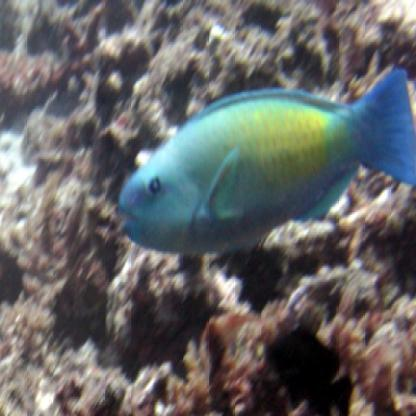parrot: (116, 65, 416, 258)
